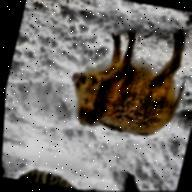boar: (59, 12, 192, 143)
